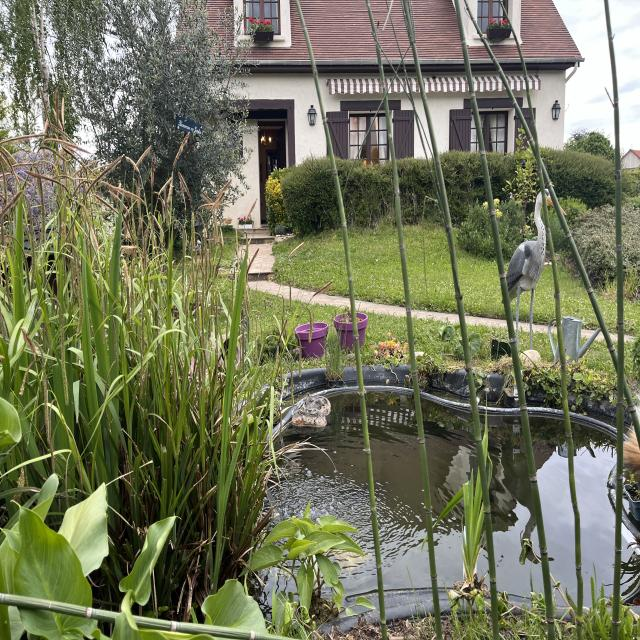Heron: (492, 176, 568, 348)
